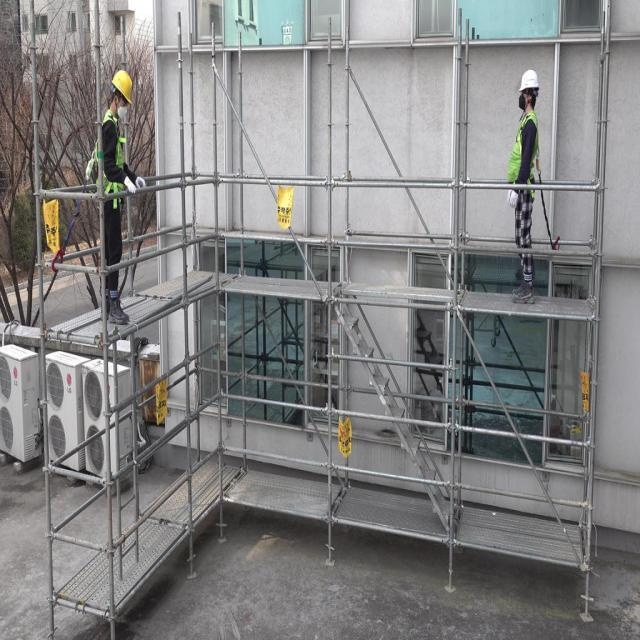Arnes_seguridad: (103, 118, 127, 205), (517, 112, 538, 197)
